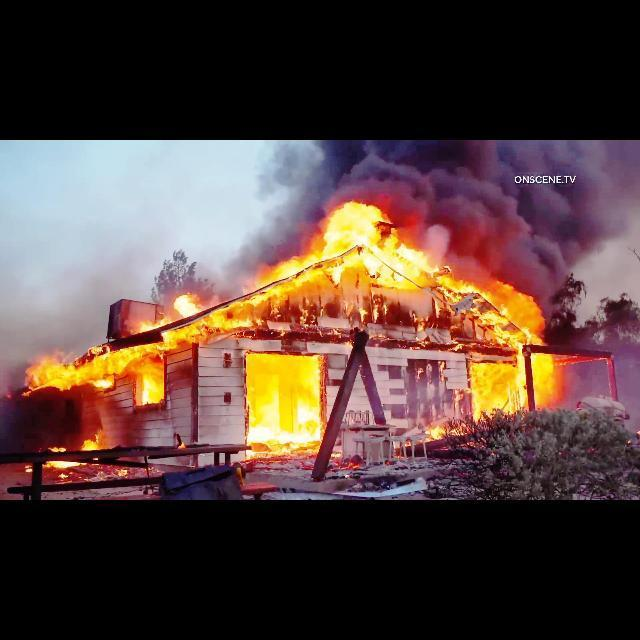Fire: (461, 286, 551, 408), (39, 346, 167, 402), (332, 202, 414, 286), (249, 352, 319, 443)
Smoke: (448, 201, 606, 285)
